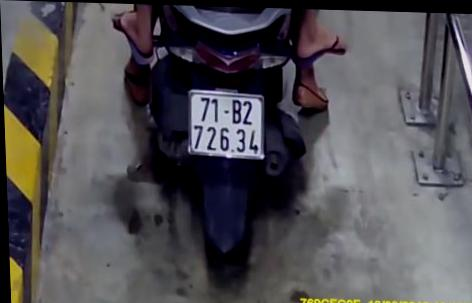License_Plate: (183, 83, 272, 170)
